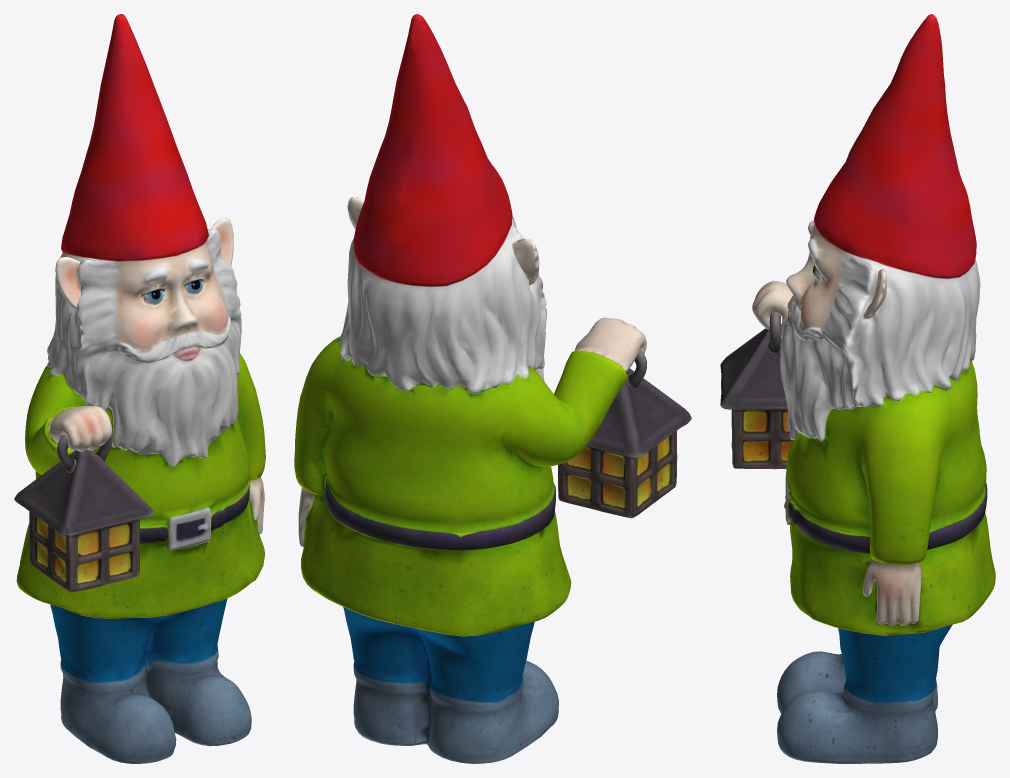
Rendered from garden_gnome.glb.
3 renders of one model, left to right at view 1: azimuth 30°, elevation 25°; view 2: azimuth 150°, elevation 25°; view 3: azimuth 270°, elevation 25°, orthographic. The views are drawn at different scales.
Parts seen in each view (by area): view 1: garden_gnome; view 2: garden_gnome; view 3: garden_gnome.
Boxes of the visible parts, left/top/right/bottom form: garden_gnome: left=14, top=14, right=265, bottom=763; garden_gnome: left=294, top=14, right=691, bottom=763; garden_gnome: left=720, top=14, right=995, bottom=763.
Size of the model in its own units: 1.55 by 3.6 by 1.26.
Materials: 1 (1 with a texture image).
